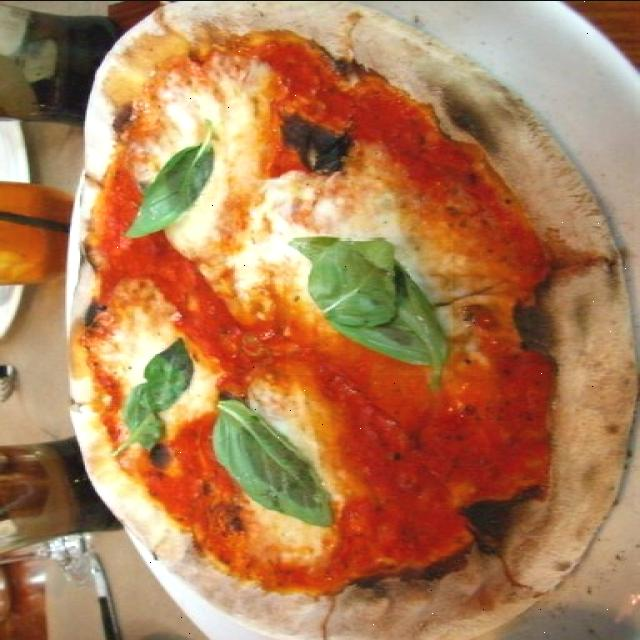basil: (286, 239, 453, 374), (218, 401, 330, 522), (120, 133, 216, 243), (118, 354, 188, 454)
cheese: (234, 180, 420, 310), (140, 77, 262, 256), (242, 390, 332, 556), (95, 312, 215, 428)
pizza: (69, 0, 635, 640)
